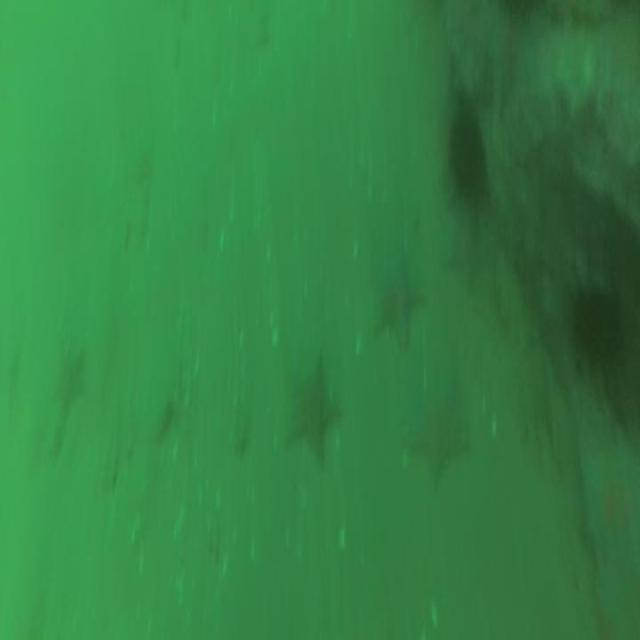echinus: (560, 261, 628, 382), (440, 95, 493, 218)
starfish: (574, 426, 640, 574), (404, 362, 471, 488), (281, 356, 341, 463), (436, 198, 498, 298), (366, 251, 427, 351), (48, 343, 88, 417)
